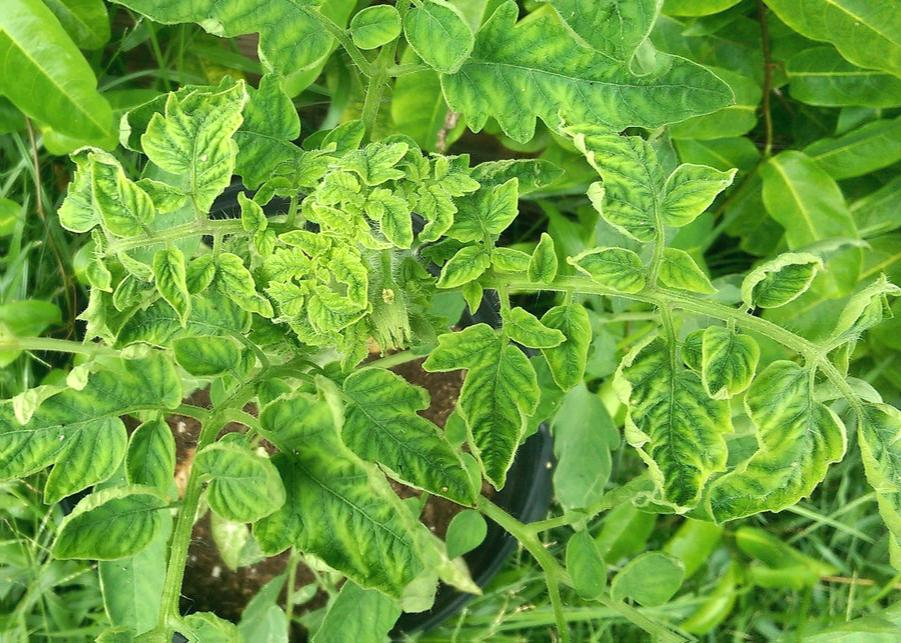Tomato leaf yellow virus: (219, 372, 434, 598), (426, 17, 749, 143), (0, 328, 192, 516), (404, 303, 582, 499), (692, 355, 843, 567), (70, 0, 340, 98), (758, 151, 887, 348), (611, 325, 724, 530), (325, 362, 484, 500), (0, 0, 125, 163), (567, 118, 696, 255), (747, 0, 901, 109), (133, 83, 251, 214), (490, 0, 672, 76), (180, 423, 292, 541), (737, 251, 827, 316), (566, 239, 651, 301), (147, 245, 195, 328), (214, 256, 275, 319), (364, 187, 417, 258), (300, 288, 372, 339), (429, 246, 495, 292), (524, 230, 560, 296)
